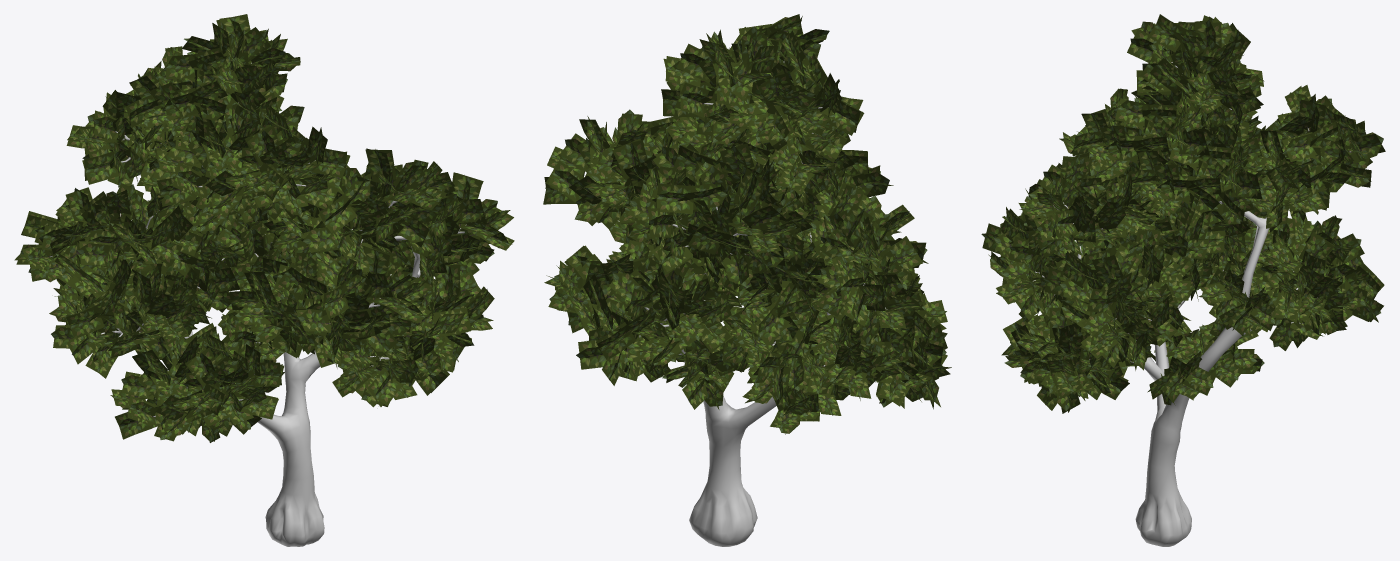
The model's file is Realistic Tree.gltf.
The picture shows the model from 3 angles, left to right: view 1: azimuth 30°, elevation 25°; view 2: azimuth 150°, elevation 25°; view 3: azimuth 270°, elevation 25°; orthographic projection. The views are drawn at different scales.
Visible parts, largest first — view 1: crown merged, trunk_low; view 2: crown merged, trunk_low; view 3: crown merged, trunk_low.
Part boxes in pixels (x1,y1,x2,y2): crown merged: (14, 14, 514, 442); trunk_low: (184, 234, 420, 546); crown merged: (543, 14, 951, 434); trunk_low: (679, 274, 830, 546); crown merged: (981, 14, 1385, 413); trunk_low: (1074, 201, 1269, 546).
Bounding box in the file's own units: 13.69 × 16.08 × 11.87.
